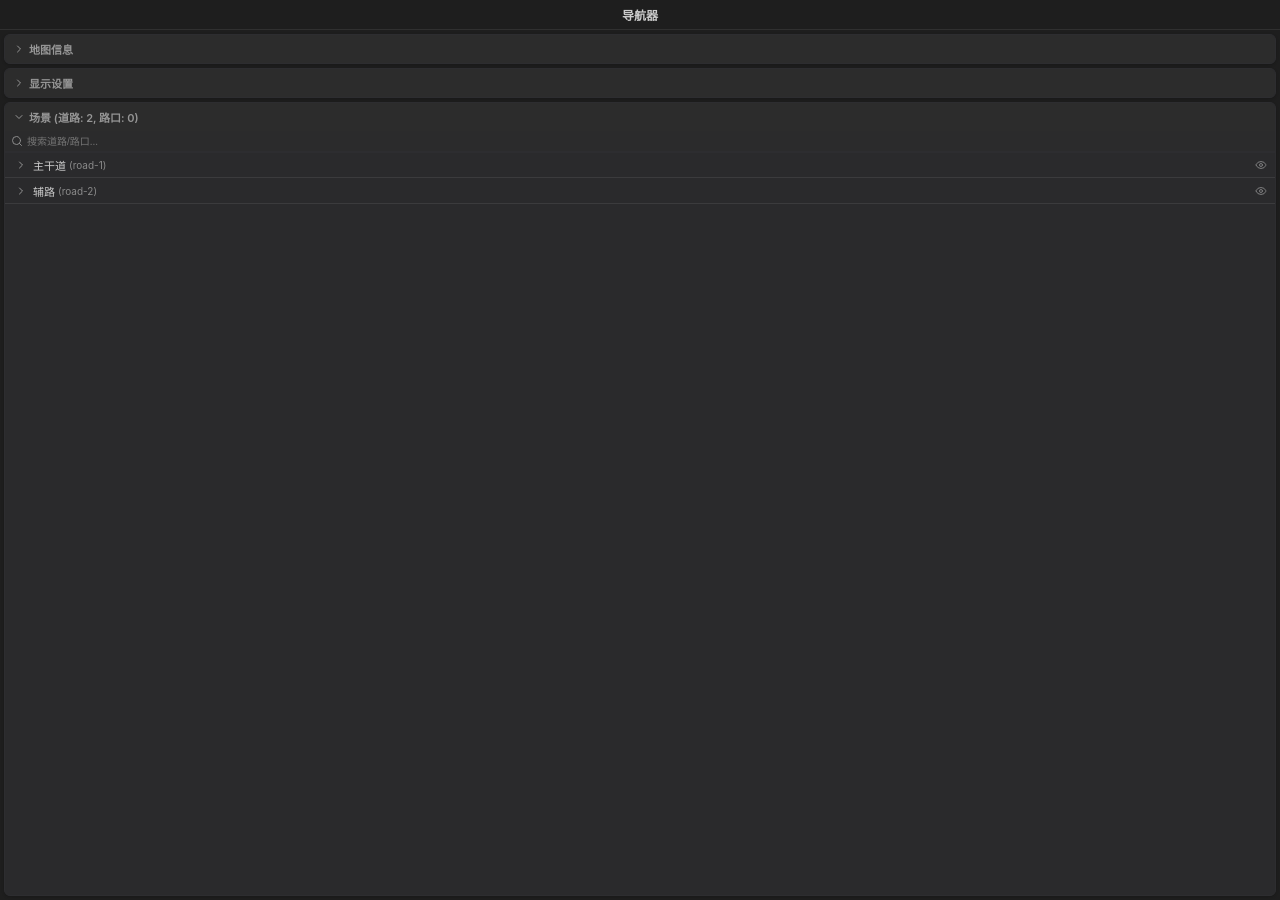
Scenario: LayerPanel › filters roads by id
Type "road-1" into the field with placeholder "搜索道路/路口..." at (648, 141), box x1=27 y1=136 x2=1269 y2=146
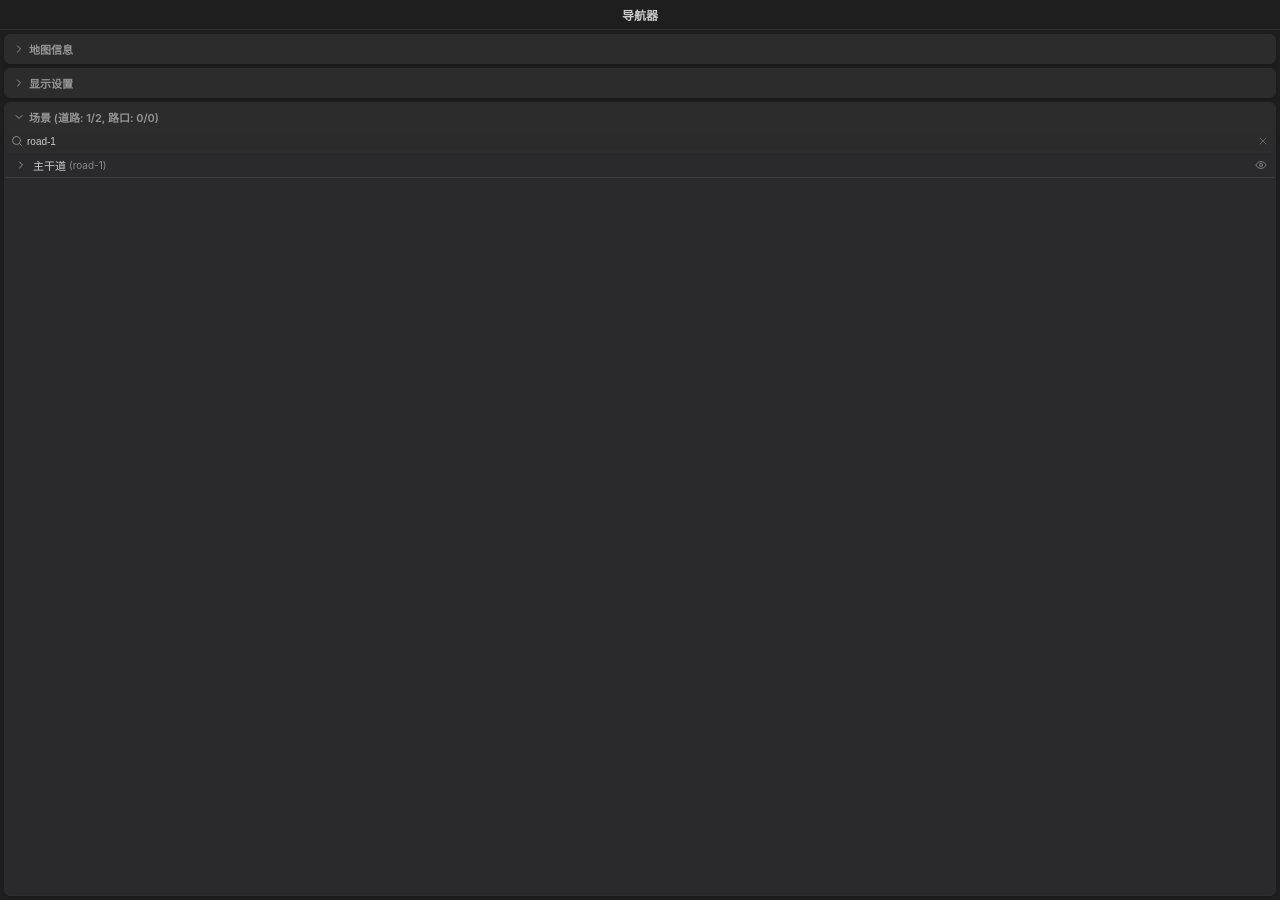
expect the text "主干道" is shown: met, box x1=33 y1=159 x2=66 y2=173
expect the text "辅路" is gone: met
